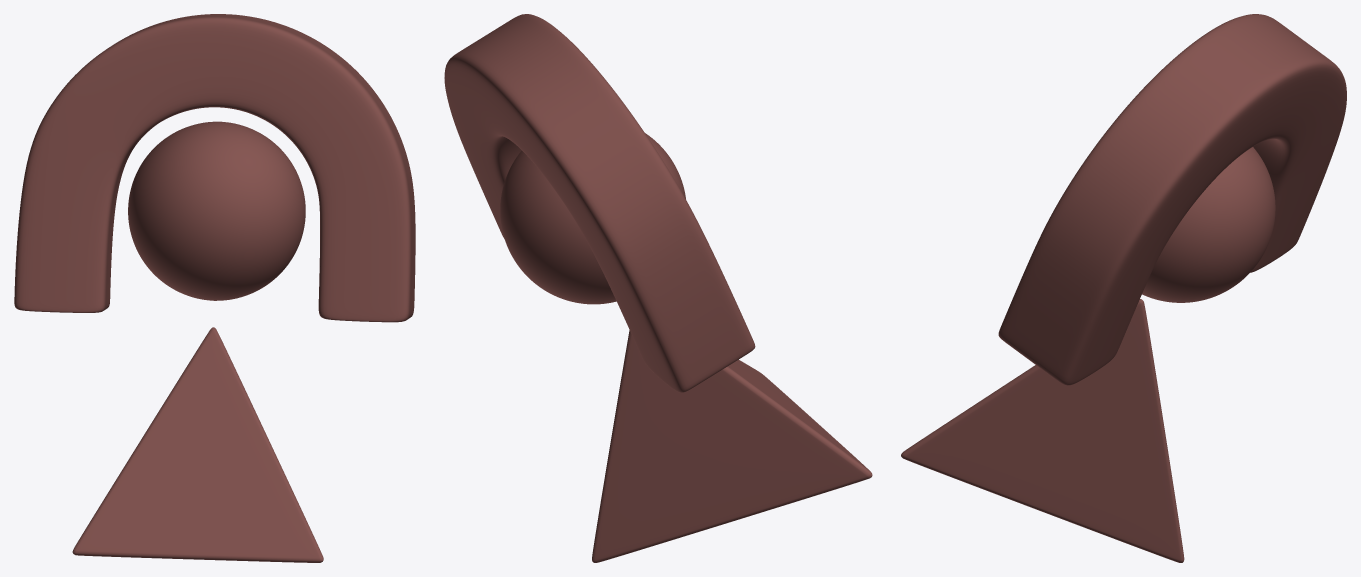
The model's file is figure-2.glb.
3 views of the same model, side by side, from view 1: azimuth 30°, elevation 25°; view 2: azimuth 150°, elevation 25°; view 3: azimuth 270°, elevation 25° (orthographic). The views are drawn at different scales.
Visible parts, largest first — view 1: Cube.016; view 2: Cube.016; view 3: Cube.016.
Part boxes in pixels (x1=…): Cube.016: x1=14, y1=14, x2=415, y2=562; Cube.016: x1=444, y1=14, x2=872, y2=562; Cube.016: x1=901, y1=14, x2=1346, y2=562.
Size of the model in its own units: 4.07 by 5.43 by 4.04.
